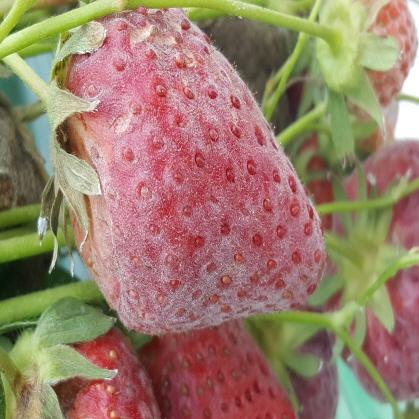Powdery Mildew Fruit: (50, 5, 328, 334), (17, 303, 162, 418)
